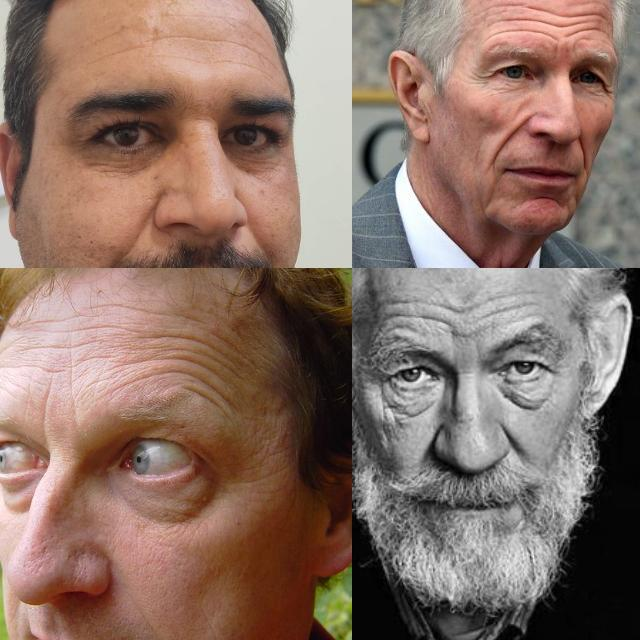chin: (533, 188, 561, 208)
crows_feet: (598, 70, 616, 104), (472, 67, 492, 89)
forehead: (152, 359, 208, 393), (432, 295, 466, 349), (0, 356, 65, 384), (152, 330, 220, 356), (484, 289, 536, 323), (384, 292, 422, 334), (154, 26, 222, 48), (488, 2, 530, 36), (106, 296, 160, 322), (188, 384, 234, 412), (535, 1, 565, 43), (20, 337, 80, 357), (234, 33, 268, 67), (570, 8, 606, 40), (88, 347, 119, 381), (158, 6, 206, 27), (94, 44, 148, 62), (33, 314, 81, 331)
frown_line: (31, 395, 53, 431)
gummy_smile: (494, 119, 528, 160), (124, 204, 154, 248), (575, 136, 589, 170)
